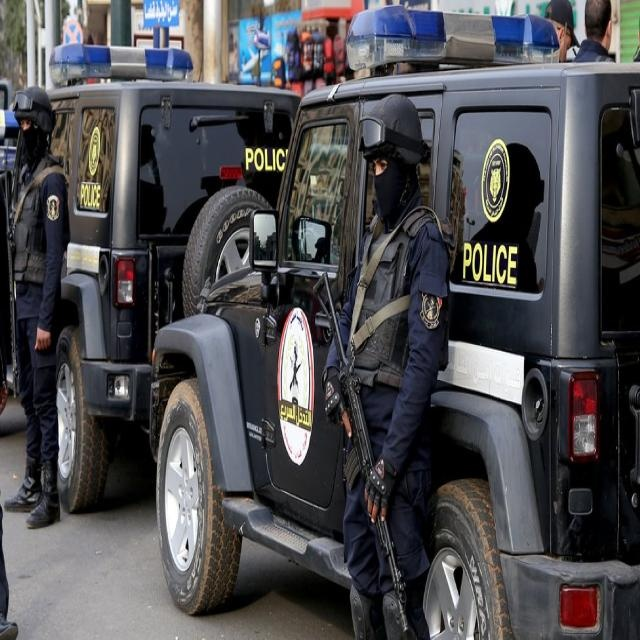person: (321, 92, 453, 639), (3, 84, 69, 529), (573, 0, 616, 62), (544, 0, 580, 62)
police-car: (149, 7, 639, 638), (15, 28, 306, 427)
